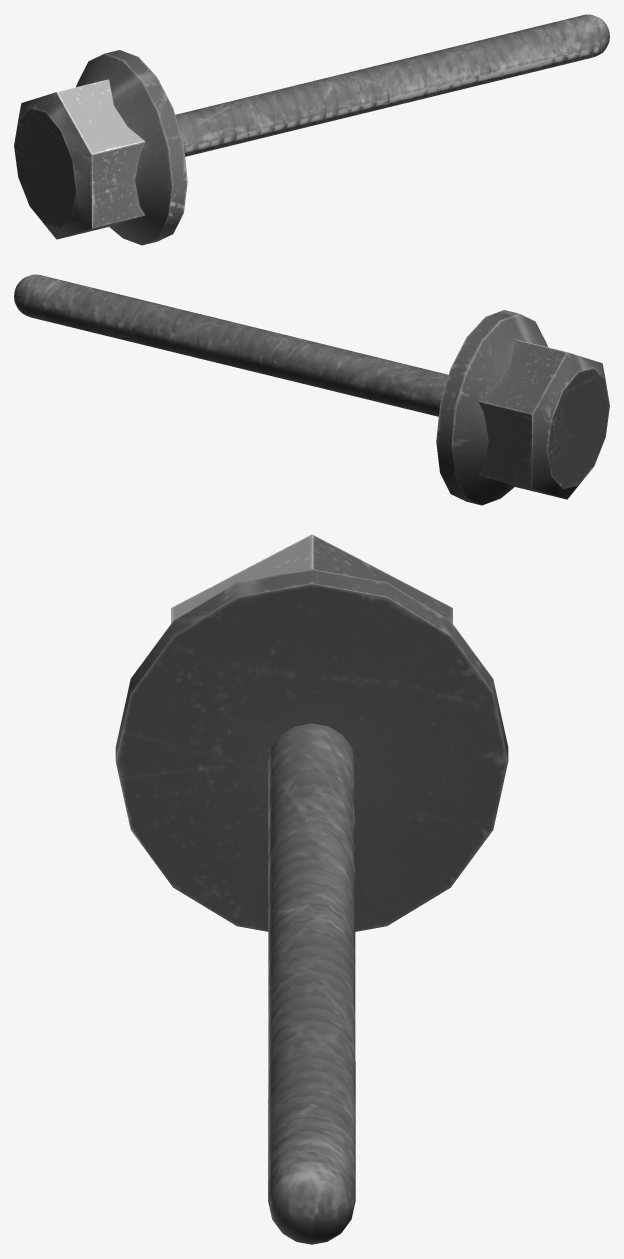
Rendered from 57_Pin_Bolts.fbx.
3 renders of one model, top to bottom at view 1: azimuth 30°, elevation 25°; view 2: azimuth 150°, elevation 25°; view 3: azimuth 270°, elevation 25°, orthographic. The views are drawn at different scales.
Visible parts, largest first — view 1: Pin_Bolts_head, Pin_Bolts_body, Pin_Bolts_tail; view 2: Pin_Bolts_head, Pin_Bolts_body, Pin_Bolts_tail; view 3: Pin_Bolts_head, Pin_Bolts_body, Pin_Bolts_tail.
Boxes of the visible parts, <box> form: Pin_Bolts_head: <box>14,50,187,245</box>; Pin_Bolts_body: <box>175,15,598,156</box>; Pin_Bolts_tail: <box>585,14,609,56</box>; Pin_Bolts_head: <box>436,310,609,505</box>; Pin_Bolts_body: <box>25,275,448,416</box>; Pin_Bolts_tail: <box>14,274,38,317</box>; Pin_Bolts_head: <box>115,534,508,931</box>; Pin_Bolts_body: <box>268,723,355,1200</box>; Pin_Bolts_tail: <box>268,1161,355,1244</box>.
Bounding box in the file's own units: 3.75 × 1.14 × 1.14.
